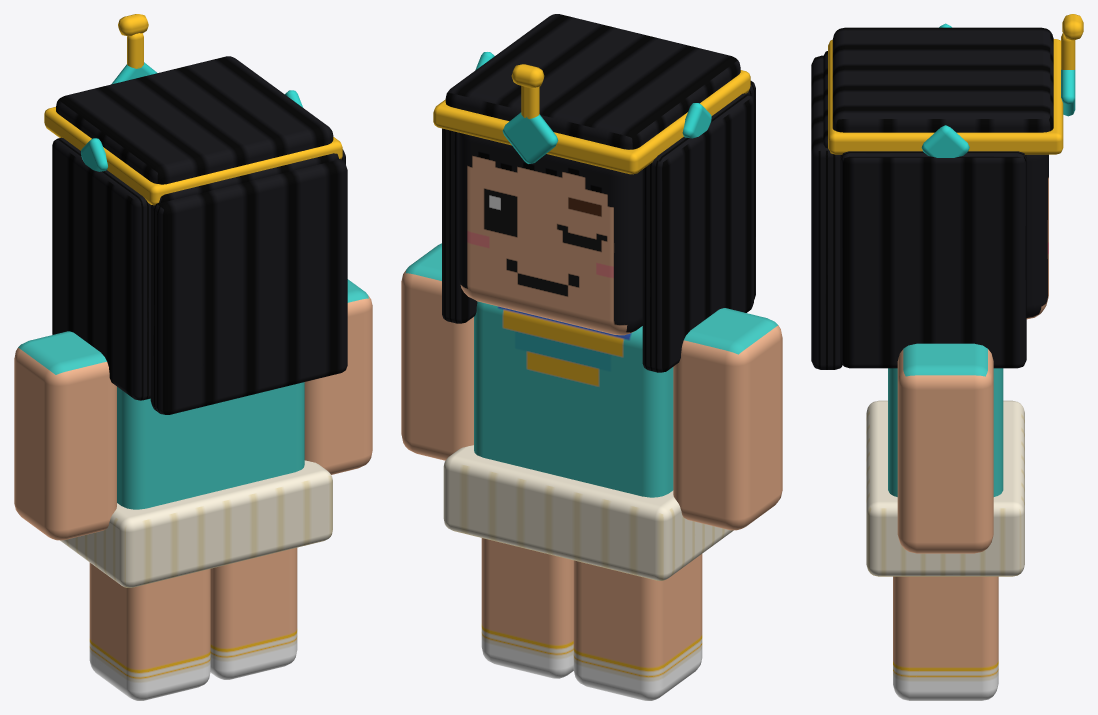
The model's file is sandqueen-BoXHymWi.glb.
3 views of the same model, side by side, from view 1: azimuth 30°, elevation 25°; view 2: azimuth 150°, elevation 25°; view 3: azimuth 270°, elevation 25° (orthographic). The views are drawn at different scales.
Parts seen in each view (by area): view 1: neck_mesh, hips_mesh, armL_mesh, legL_mesh, legR_mesh, armR_mesh; view 2: neck_mesh, hips_mesh, armL_mesh, legL_mesh, armR_mesh, legR_mesh; view 3: neck_mesh, armR_mesh, hips_mesh, legR_mesh.
Boxes of the visible parts, bbox=[...] form: neck_mesh: bbox=[44, 14, 347, 414]; hips_mesh: bbox=[60, 382, 332, 587]; armL_mesh: bbox=[14, 331, 116, 540]; legL_mesh: bbox=[89, 562, 210, 700]; legR_mesh: bbox=[210, 547, 297, 679]; armR_mesh: bbox=[304, 279, 372, 474]; neck_mesh: bbox=[433, 14, 755, 372]; hips_mesh: bbox=[443, 301, 733, 580]; armL_mesh: bbox=[673, 308, 782, 530]; legL_mesh: bbox=[573, 554, 702, 700]; armR_mesh: bbox=[401, 243, 473, 460]; legR_mesh: bbox=[481, 538, 573, 678]; neck_mesh: bbox=[811, 14, 1083, 369]; armR_mesh: bbox=[897, 343, 993, 553]; hips_mesh: bbox=[866, 368, 1024, 576]; legR_mesh: bbox=[893, 576, 998, 700].
Size of the model in its own units: 1.66 by 2.97 by 1.14.
Materials: 1 (1 with a texture image).
